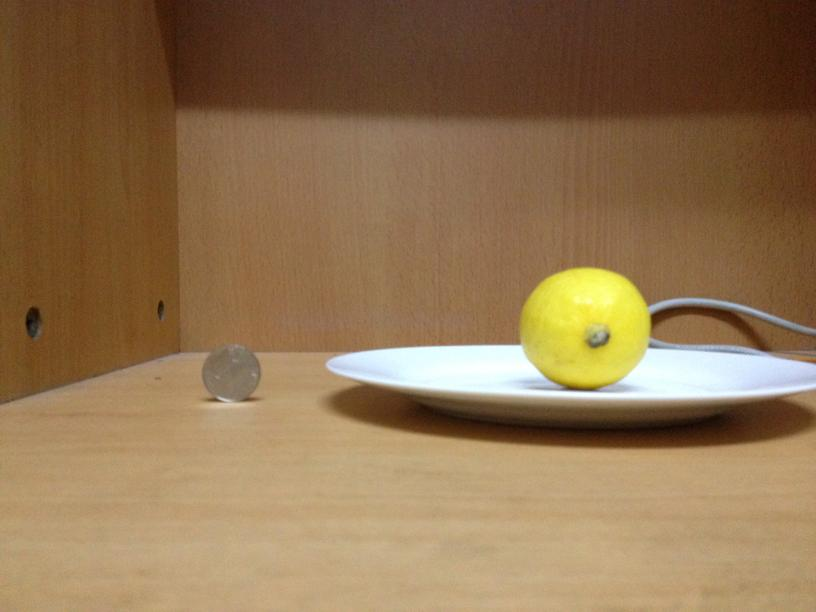coin: (200, 341, 262, 402)
lemon: (519, 264, 649, 387)
